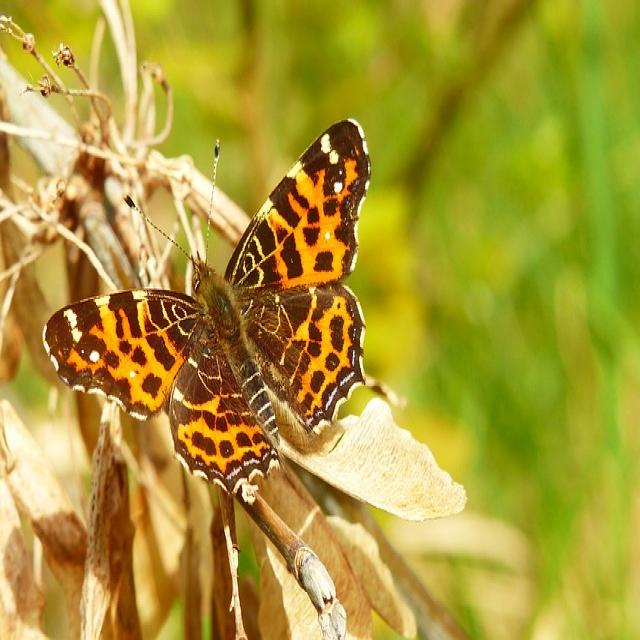butterfly: (43, 120, 372, 512)
